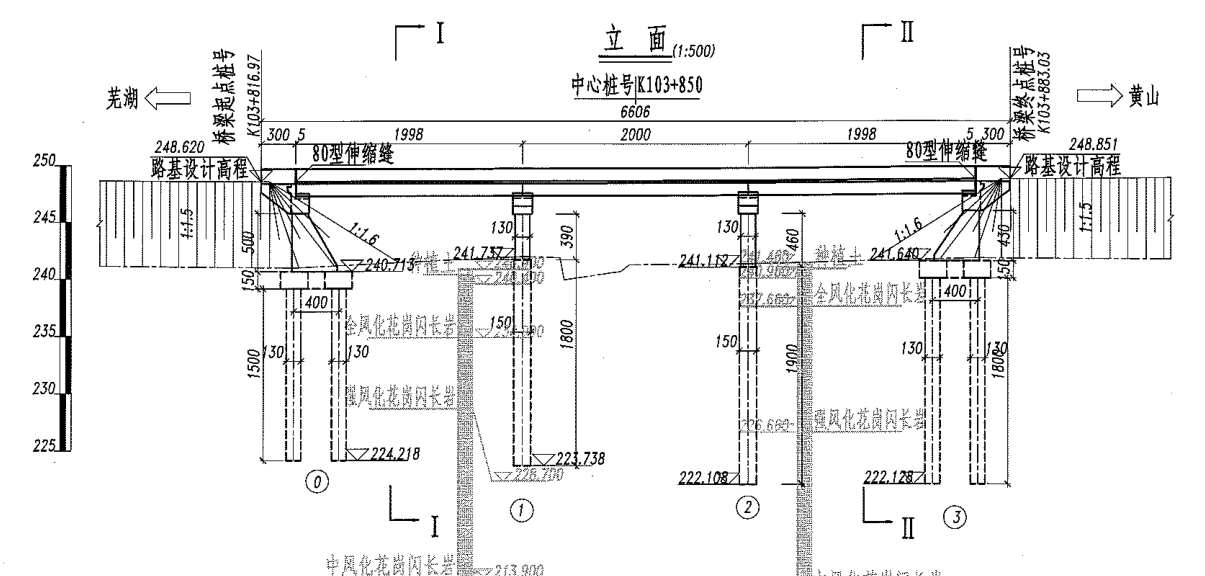A: (259, 101, 1017, 128)
C: (864, 244, 993, 532), (672, 189, 768, 525), (472, 190, 539, 528)
